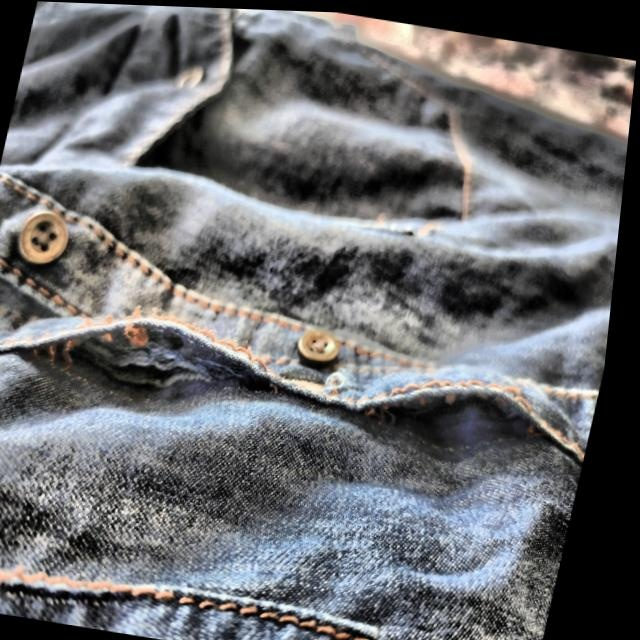seam: (2, 255, 313, 443), (356, 337, 578, 487)
